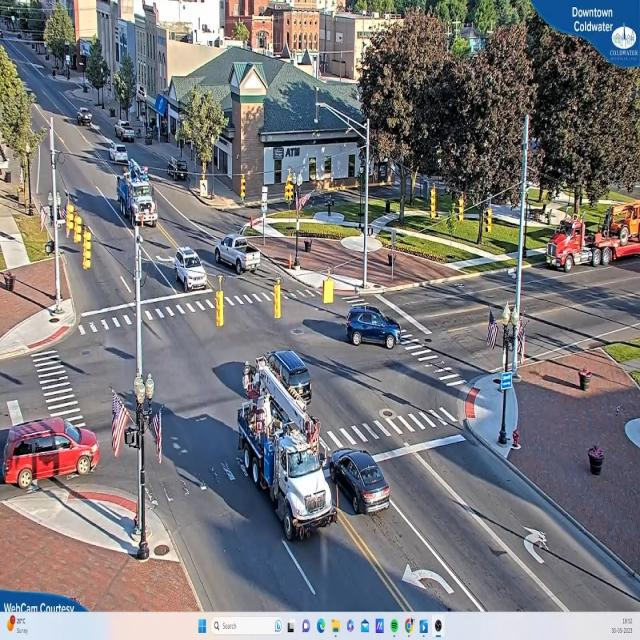car: (2, 416, 101, 493), (328, 451, 392, 516), (268, 350, 314, 406), (346, 305, 402, 349), (212, 238, 259, 278), (170, 251, 210, 293), (118, 122, 136, 143), (78, 109, 94, 127)
truck: (234, 362, 334, 551), (550, 207, 640, 276), (116, 166, 162, 233)
